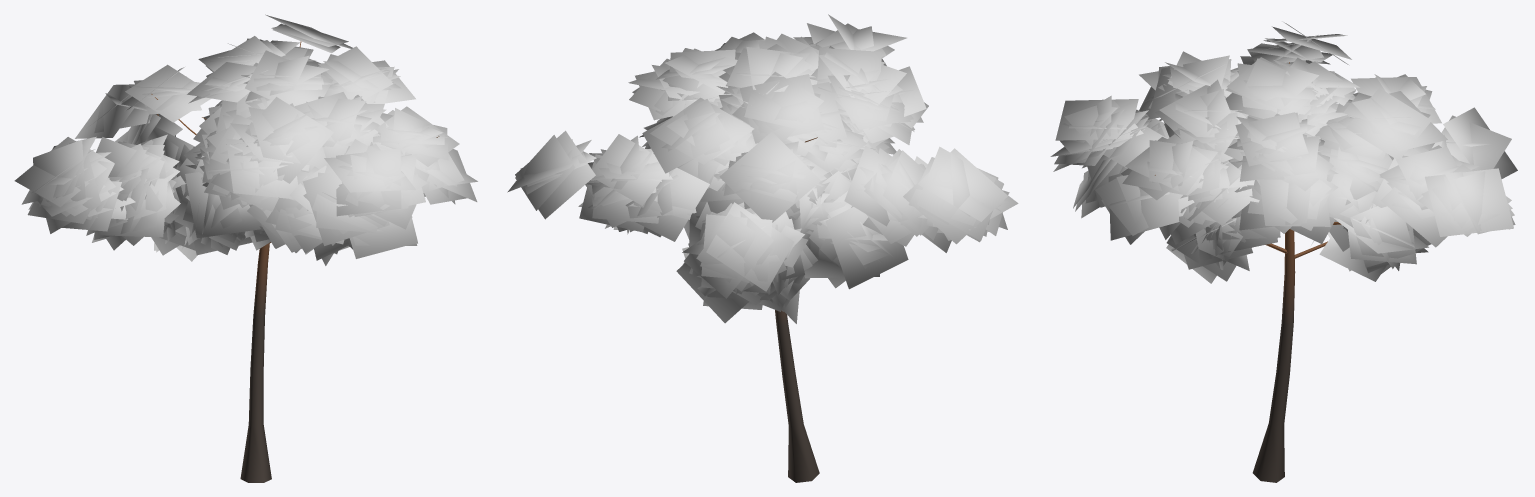
The picture shows the model from 3 angles, left to right: view 1: azimuth 30°, elevation 25°; view 2: azimuth 150°, elevation 25°; view 3: azimuth 270°, elevation 25°; orthographic projection. The views are drawn at different scales.
Visible parts, largest first — view 1: crown, trunk; view 2: crown, trunk; view 3: crown, trunk.
Boxes of the visible parts, <box> form: crown: <box>14,14,477,265</box>; trunk: <box>151,41,439,482</box>; crown: <box>507,14,1018,323</box>; trunk: <box>775,137,819,482</box>; crown: <box>1050,21,1517,283</box>; trunk: <box>1155,62,1341,482</box>.
Size of the model in its own units: 19.9 by 19.65 by 19.81.
